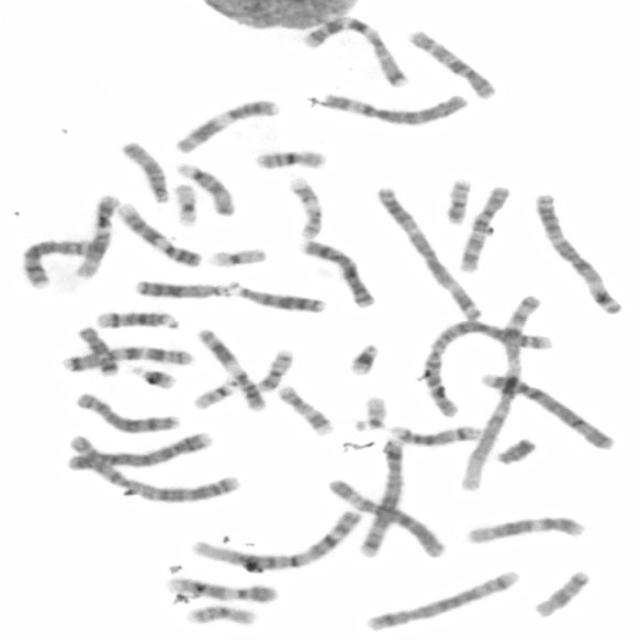A1: (452, 290, 552, 496), (191, 511, 374, 570)
A2: (419, 311, 536, 425), (64, 434, 242, 505)
A3: (374, 186, 488, 323), (530, 191, 627, 316)
B4: (482, 374, 617, 449), (64, 429, 217, 472)
B5: (361, 571, 519, 631), (353, 438, 408, 561)
C10: (402, 28, 498, 100), (453, 183, 514, 277)
C11: (190, 329, 272, 412), (168, 97, 282, 153)
C12: (460, 512, 586, 548), (74, 193, 120, 281)
C6: (326, 476, 447, 560), (318, 94, 473, 128)
C7: (296, 17, 413, 87), (59, 345, 198, 376)
C8: (67, 392, 183, 436), (19, 237, 94, 291)
C9: (114, 202, 205, 268), (163, 578, 282, 604)
D13: (230, 282, 330, 316), (128, 278, 235, 302)
D14: (384, 422, 484, 448), (89, 310, 181, 331)
D15: (114, 139, 169, 207), (179, 162, 235, 215)
E16: (249, 148, 328, 172), (180, 606, 261, 629)
E17: (272, 384, 334, 436), (283, 176, 325, 242)
E18: (527, 568, 594, 618), (74, 325, 114, 377)
F19: (170, 182, 199, 230), (207, 246, 267, 268)
F20: (254, 347, 295, 393), (440, 177, 474, 224)
G21: (342, 339, 381, 378), (129, 364, 179, 391)
G22: (187, 376, 238, 412), (354, 393, 386, 434)
X: (298, 238, 374, 310)
Y: (491, 436, 538, 465)
